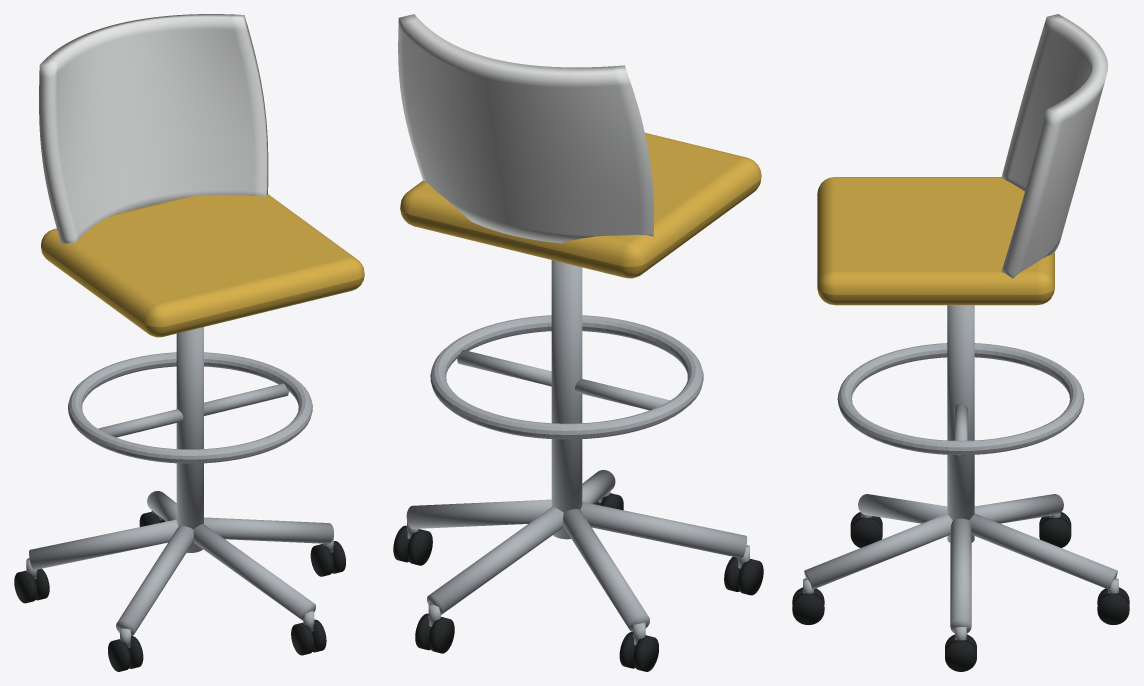
Rendered from 32_吧椅_打印茶水区_黄色.glb.
The picture shows the model from 3 angles, left to right: view 1: azimuth 30°, elevation 25°; view 2: azimuth 150°, elevation 25°; view 3: azimuth 270°, elevation 25°; orthographic projection. The views are drawn at different scales.
Parts seen in each view (by area): view 1: 白色靠背, 弧面软座垫, 环形脚踏, 气压立柱, 星形底脚.002, 星形底脚.004, 星形底脚, 星形底脚.003, 脚踏支撑, 脚踏支撑.001, 星形底脚.001, 脚轮.004 (+3 smaller); view 2: 白色靠背, 弧面软座垫, 环形脚踏, 气压立柱, 星形底脚.003, 星形底脚.001, 星形底脚, 星形底脚.002, 脚踏支撑, 脚踏支撑.001, 星形底脚.004, 脚轮 (+3 smaller); view 3: 弧面软座垫, 白色靠背, 环形脚踏, 气压立柱, 星形底脚.001, 星形底脚.004, 星形底脚, 星形底脚.002, 星形底脚.003, 脚轮.003, 脚轮.009, 脚轮.001 (+3 smaller).
Boxes of the visible parts, <box> form: 白色靠背: <box>39,14,268,244</box>; 弧面软座垫: <box>41,194,364,337</box>; 环形脚踏: <box>68,352,312,463</box>; 气压立柱: <box>176,327,203,552</box>; 星形底脚.002: <box>29,519,178,570</box>; 星形底脚.004: <box>193,524,315,620</box>; 星形底脚: <box>204,517,333,543</box>; 星形底脚.003: <box>116,526,193,636</box>; 脚踏支撑: <box>204,383,288,415</box>; 脚踏支撑.001: <box>98,409,183,437</box>; 星形底脚.001: <box>147,491,176,521</box>; 脚轮.004: <box>14,570,37,603</box>; 白色靠背: <box>398,14,653,243</box>; 弧面软座垫: <box>400,132,761,278</box>; 环形脚踏: <box>430,315,703,439</box>; 气压立柱: <box>551,260,582,539</box>; 星形底脚.003: <box>580,502,747,558</box>; 星形底脚.001: <box>427,506,563,614</box>; 星形底脚: <box>406,499,551,528</box>; 星形底脚.002: <box>563,509,649,632</box>; 脚踏支撑: <box>457,350,551,386</box>; 脚踏支撑.001: <box>575,378,669,410</box>; 星形底脚.004: <box>582,470,615,503</box>; 脚轮: <box>407,529,432,565</box>; 弧面软座垫: <box>817,177,1054,305</box>; 白色靠背: <box>1001,14,1107,278</box>; 环形脚踏: <box>837,343,1084,455</box>; 气压立柱: <box>947,305,974,542</box>; 星形底脚.001: <box>969,513,1117,589</box>; 星形底脚.004: <box>804,513,952,589</box>; 星形底脚: <box>950,518,971,633</box>; 星形底脚.002: <box>974,494,1063,523</box>; 星形底脚.003: <box>858,494,947,523</box>; 脚轮.003: <box>1097,593,1129,624</box>; 脚轮.009: <box>792,593,824,624</box>; 脚轮.001: <box>945,640,976,671</box>.
Bounding box in the file's own units: 0.5656 × 1.07 × 0.6096.
